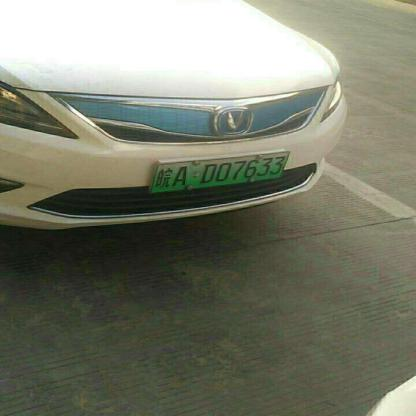lp: (146, 151, 290, 194)
